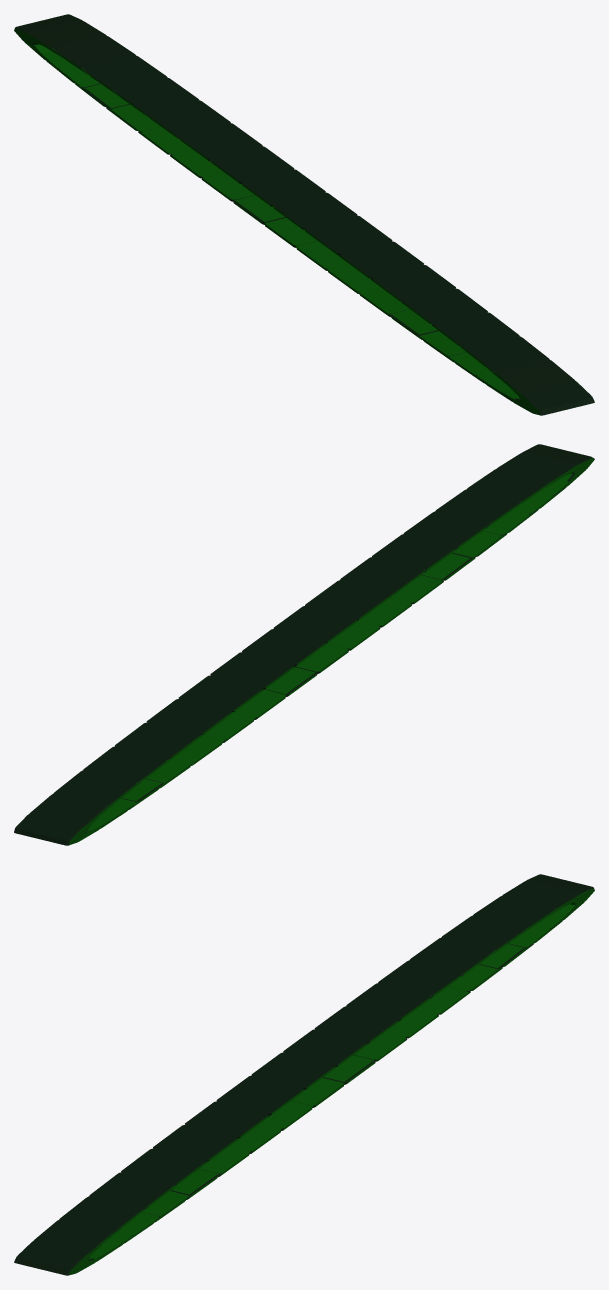
Rendered from Ground.fbx.
3 views of the same model, one above another, from view 1: azimuth 30°, elevation 25°; view 2: azimuth 150°, elevation 25°; view 3: azimuth 330°, elevation 25° (orthographic).
Parts seen in each view (by area): view 1: Cube; view 2: Cube; view 3: Cube.
Part boxes in pixels (<box>): Cube: <box>14,14,594,415</box>; Cube: <box>14,444,594,845</box>; Cube: <box>14,874,594,1275</box>.
Bounding box in the file's own units: 200 × 92.89 × 3358.
